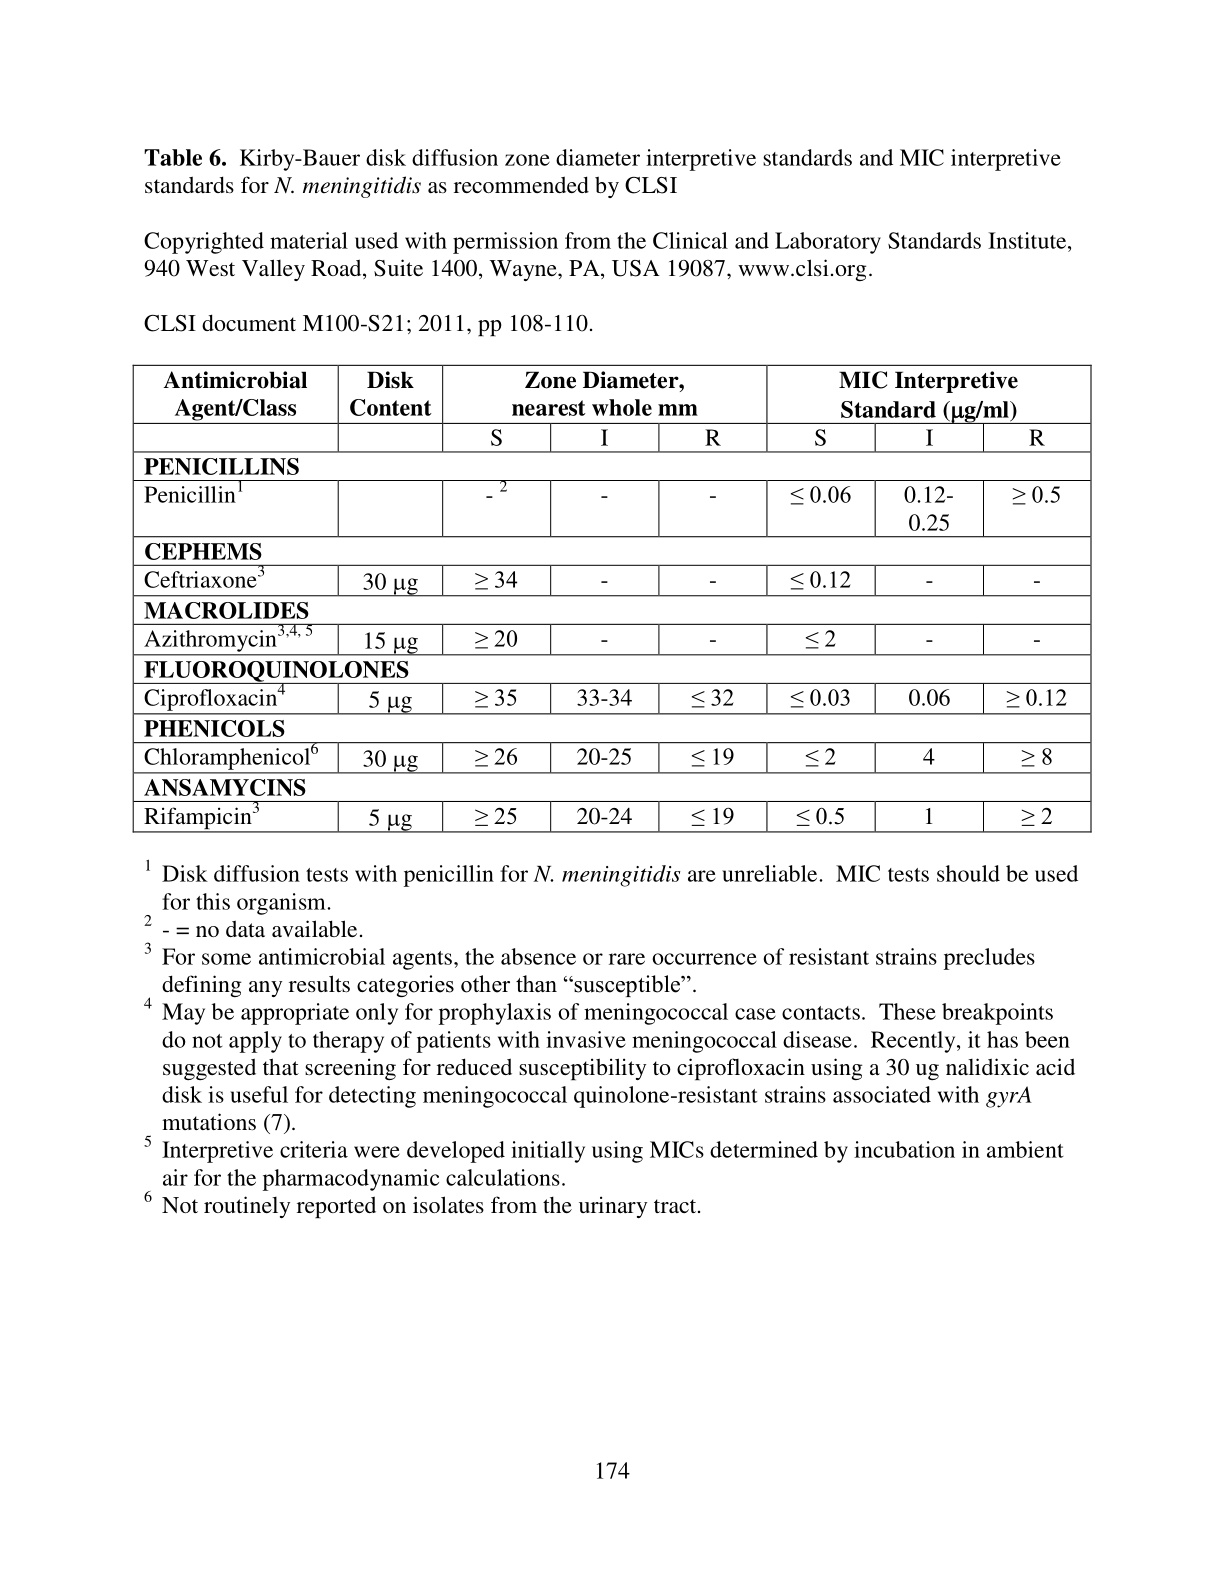merged_cells: (132, 364, 1093, 834)
